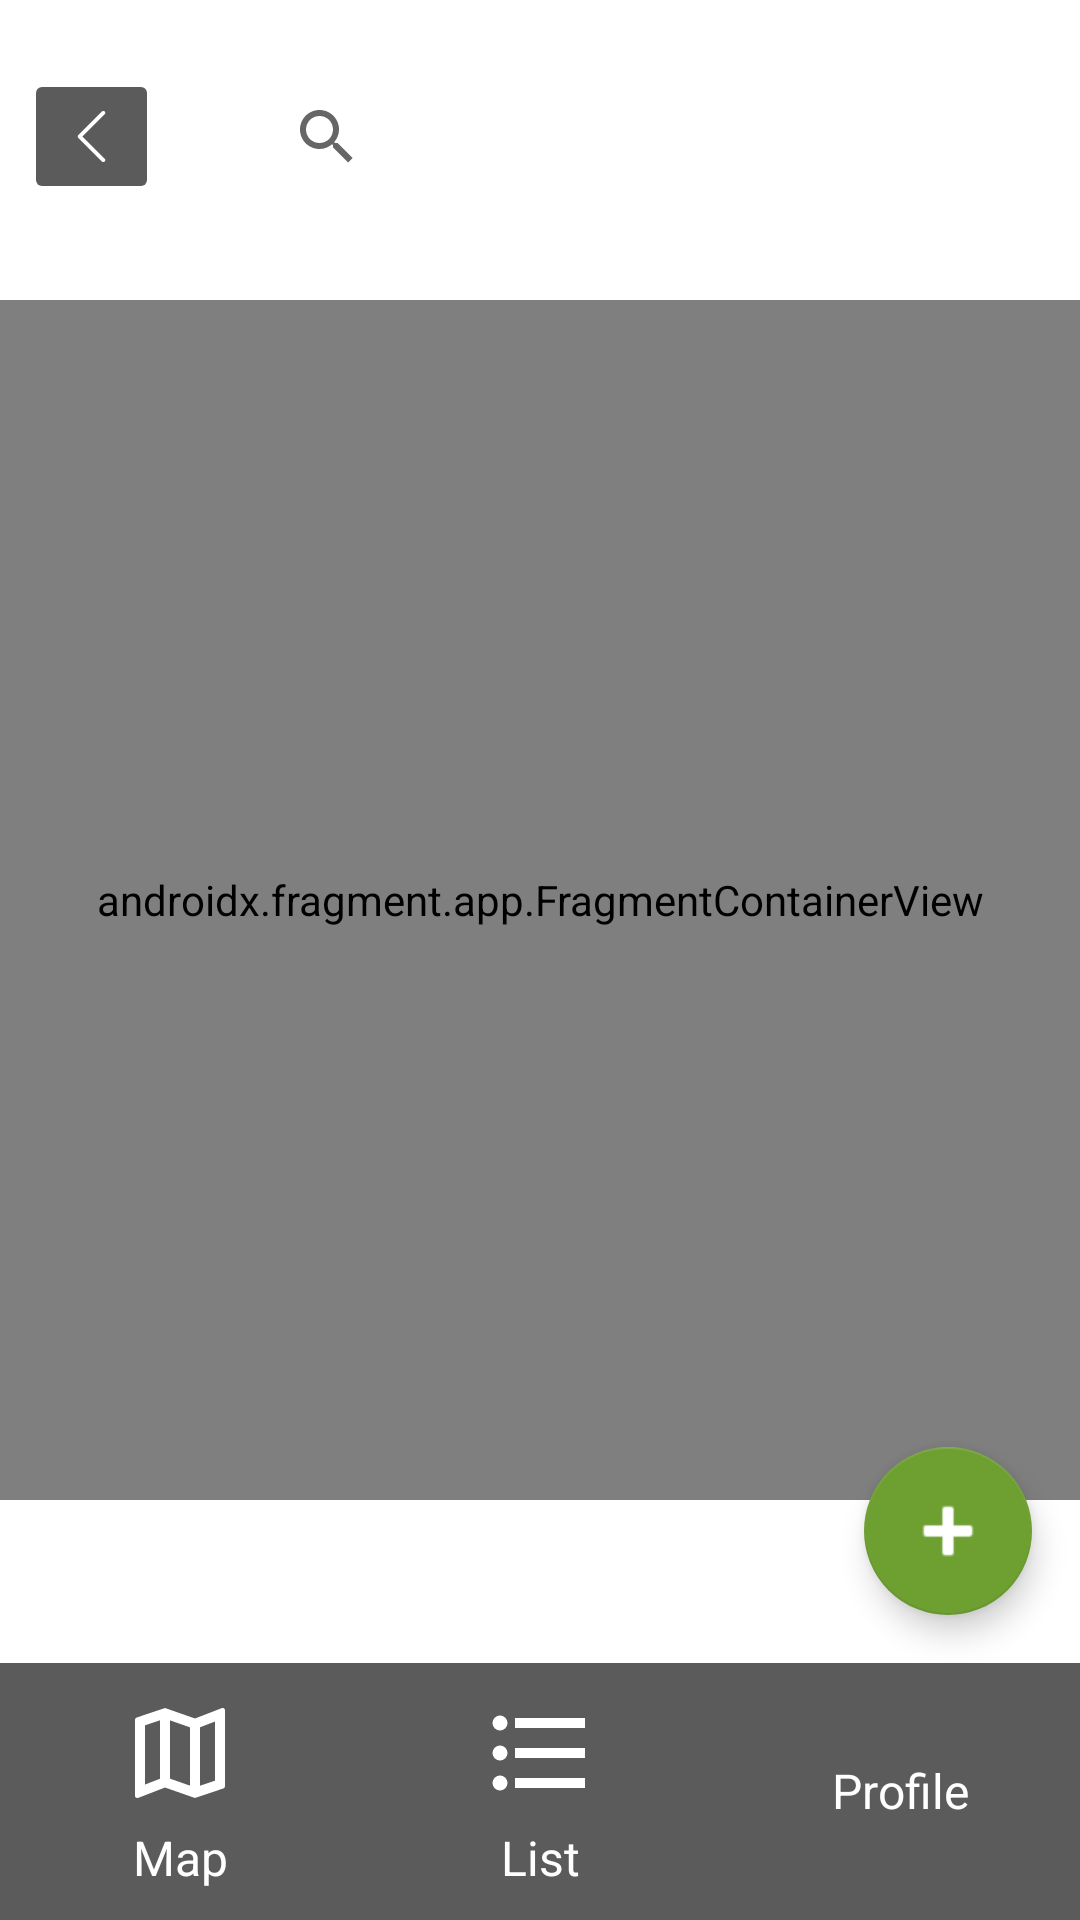

Named icons in this screenshot (1080px×1920px) and their centers, (x=x, y=y):
add: (x=948, y=1531)
